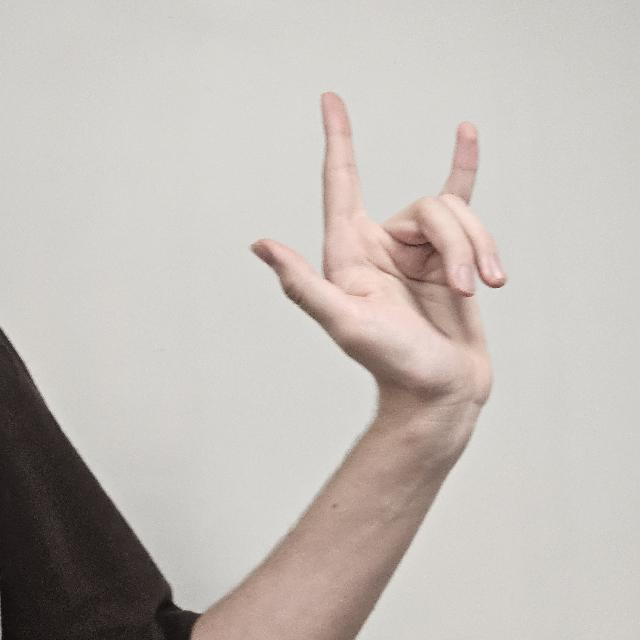Cima: (250, 90, 510, 448)
